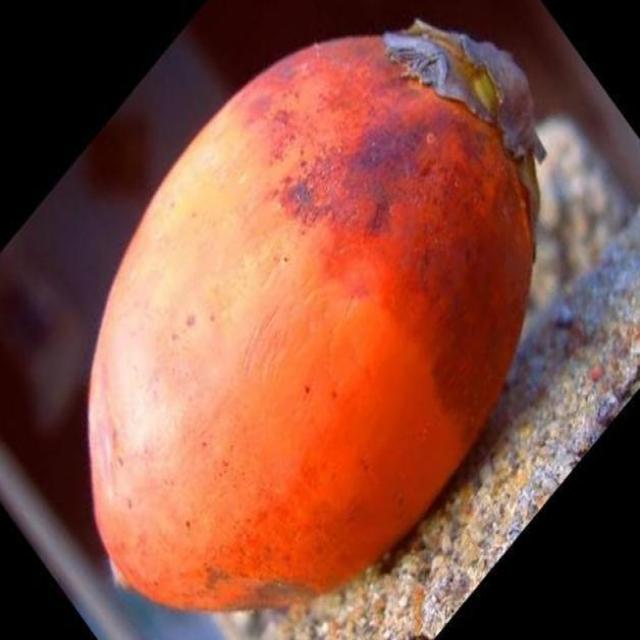good: (86, 20, 543, 616)
